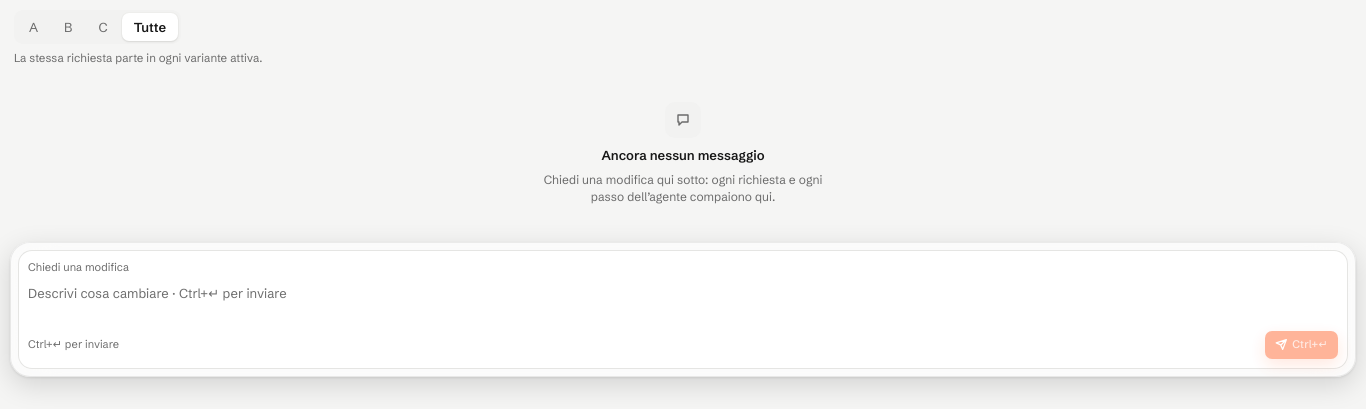
Test: chat selector › "Tutte" names the variants that did not start, with the reason
Type "Ciao" into the text box labelled "Chiedi una modifica" at (683, 303), box 28,284 -> 1338,323
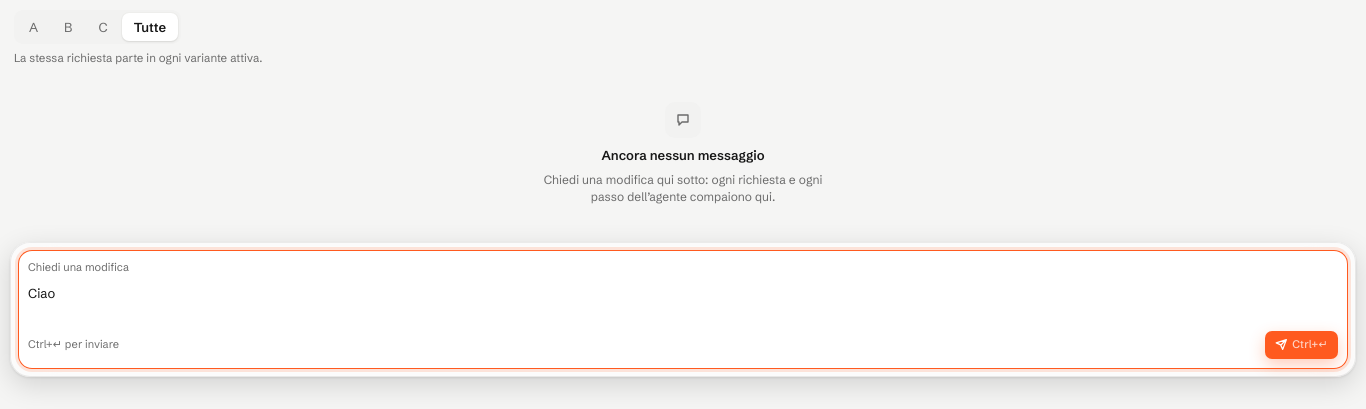
Click the button with aria-label "Invia" at (1302, 345), box 1265,331 -> 1338,359
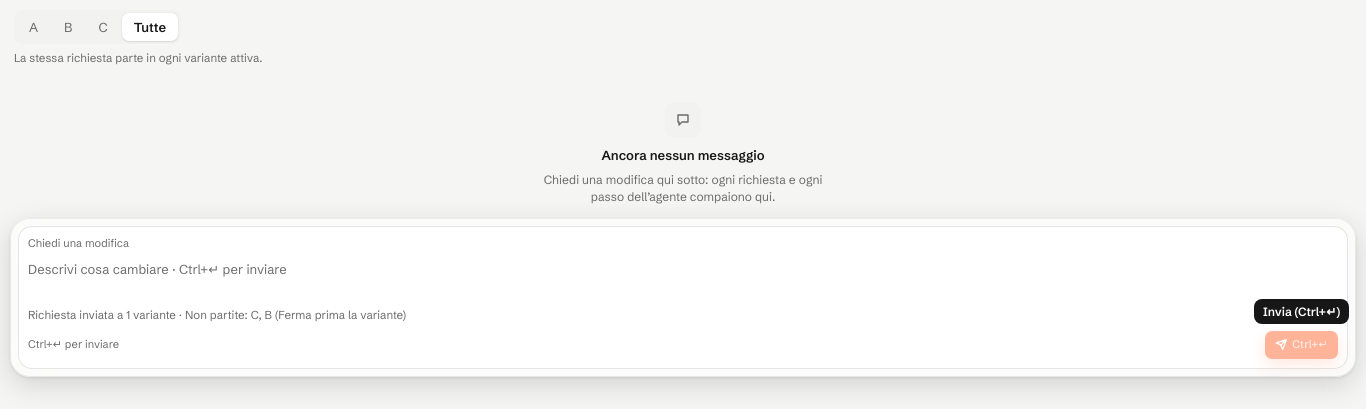
Expected: the text "Richiesta inviata a 1 variante · Non partite: C, B (Ferma prima la variante)" is shown, 28,308 -> 406,322
